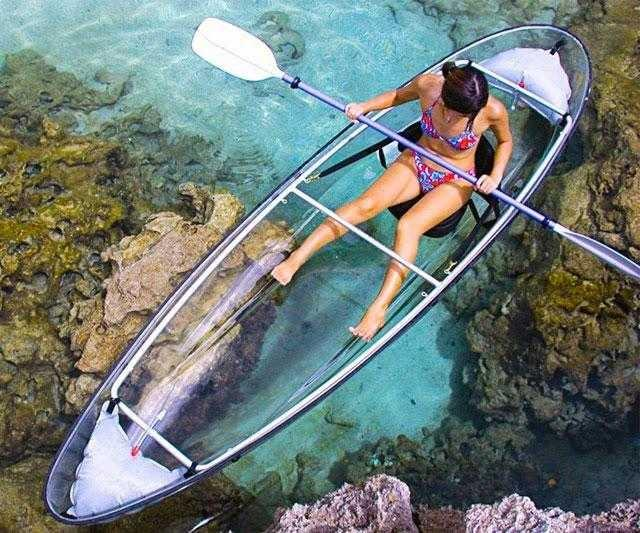kayak: (15, 17, 631, 526)
